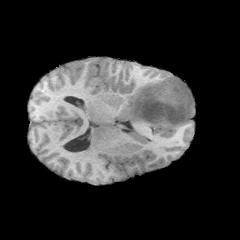glioma: (125, 81, 189, 127)
